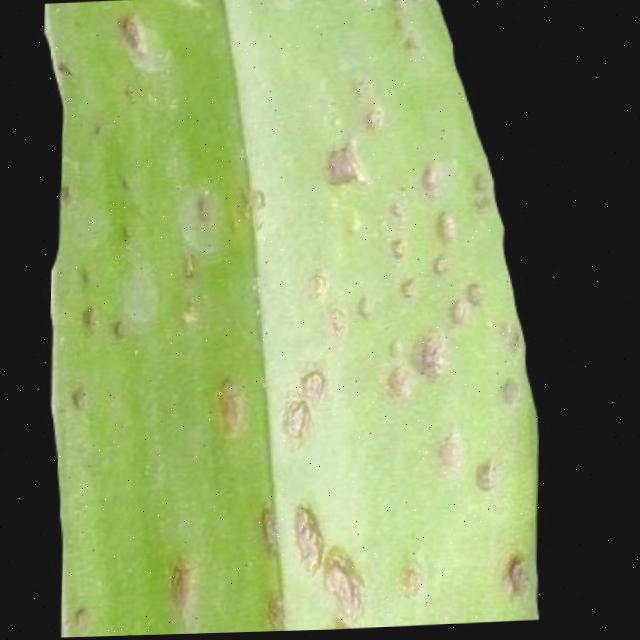mite: (177, 182, 227, 254), (414, 332, 450, 382), (284, 396, 316, 444), (399, 562, 427, 602), (476, 459, 500, 495), (419, 162, 443, 198), (193, 191, 215, 225)
spots: (32, 0, 559, 639)
